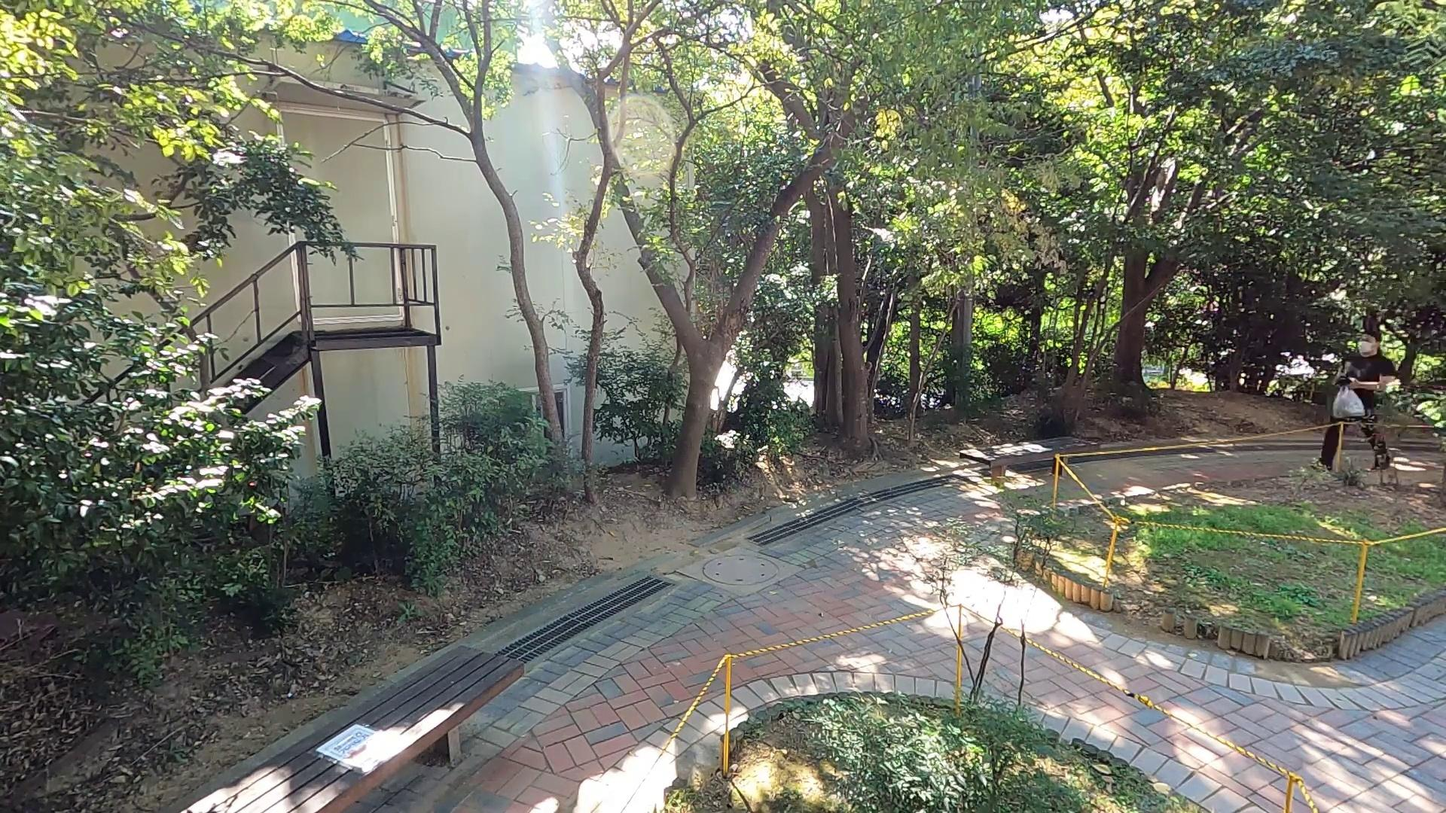person: (1321, 326, 1402, 476)
trash: (1333, 385, 1367, 423)
